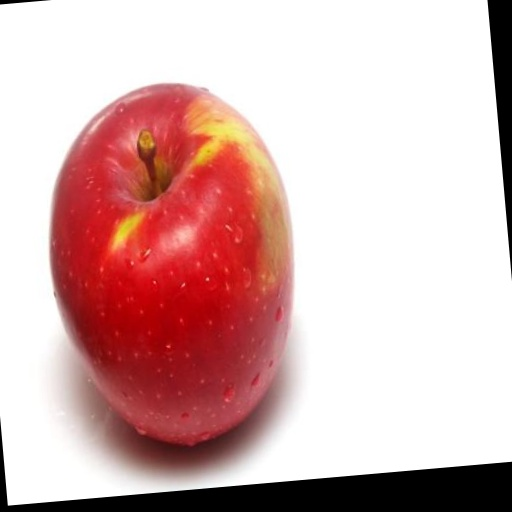fruit: (50, 84, 293, 444)
